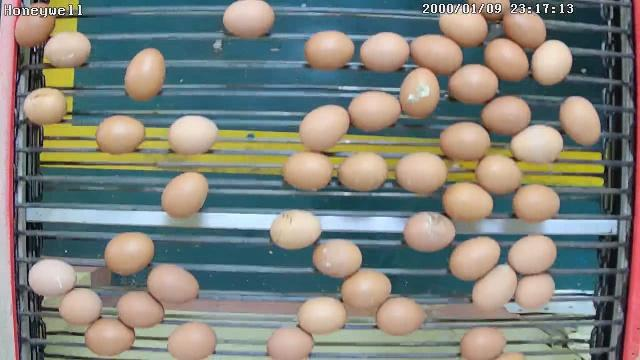egg: (298, 103, 350, 152), (448, 235, 501, 281), (146, 262, 200, 307), (270, 208, 324, 253), (398, 63, 442, 118), (123, 46, 166, 102), (442, 180, 495, 225), (348, 90, 402, 134), (338, 268, 392, 312), (161, 171, 210, 219), (394, 151, 448, 194), (104, 231, 156, 275), (358, 30, 411, 73), (559, 93, 602, 146), (403, 211, 457, 253), (410, 32, 464, 74), (438, 120, 492, 162), (512, 181, 562, 226), (304, 29, 356, 72), (482, 93, 534, 136), (167, 114, 220, 156), (471, 262, 517, 310), (42, 28, 94, 70), (282, 151, 334, 193), (84, 314, 136, 356), (511, 123, 564, 164), (438, 4, 488, 47), (95, 114, 146, 156), (338, 151, 389, 193), (484, 36, 530, 82), (222, 0, 276, 39), (298, 294, 348, 336), (312, 238, 362, 280), (508, 234, 558, 276), (448, 62, 499, 103), (531, 38, 574, 86), (476, 152, 522, 196), (501, 6, 547, 50), (116, 288, 164, 330), (27, 258, 77, 298), (376, 295, 426, 335), (13, 3, 57, 48), (166, 322, 218, 360), (22, 85, 68, 127), (58, 286, 103, 328), (266, 323, 315, 360), (514, 271, 556, 310), (458, 326, 506, 358)
